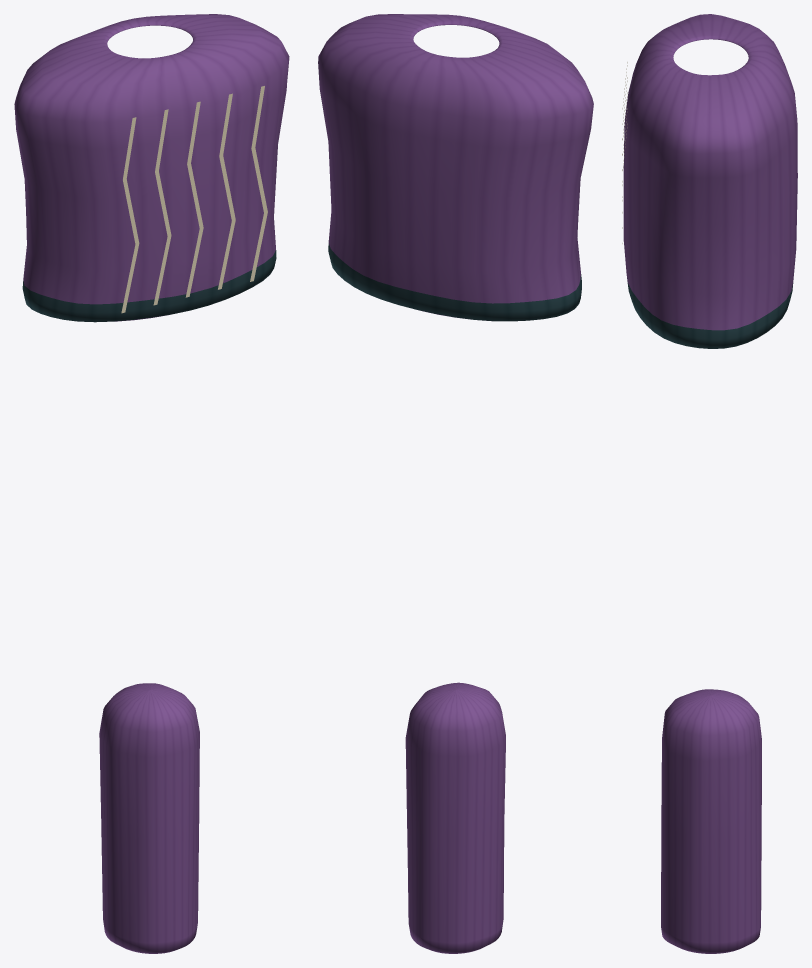
Rendered from reference_sweater.gltf.
3 views of the same model, side by side, from view 1: azimuth 30°, elevation 25°; view 2: azimuth 150°, elevation 25°; view 3: azimuth 270°, elevation 25° (orthographic).
Visible parts, largest first — view 1: Torso, SleeveL; view 2: Torso, SleeveL; view 3: Torso, SleeveL.
Boxes of the visible parts, x1,y1,x2,y2 form: Torso: (14,14,289,322); SleeveL: (99,683,199,953); Torso: (318,14,593,321); SleeveL: (405,682,505,953); Torso: (622,14,797,348); SleeveL: (661,689,761,953).
Bounding box in the file's own units: 0.5277 × 1.73 × 0.3124.
Materials: 3 (3 with a texture image).
